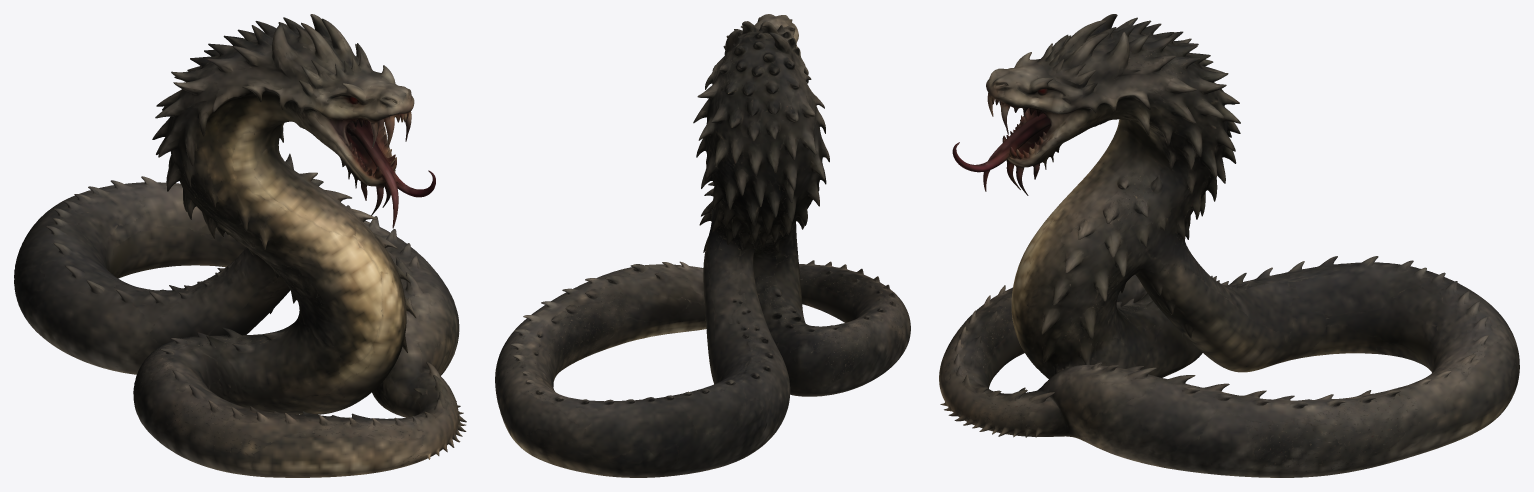
Rendered from giant_snake.glb.
3 renders of one model, left to right at view 1: azimuth 30°, elevation 25°; view 2: azimuth 150°, elevation 25°; view 3: azimuth 270°, elevation 25°, orthographic. The views are drawn at different scales.
Visible parts, largest first — view 1: material; view 2: material; view 3: material.
Part boxes in pixels (x1,y1,x2,y2): material: (14, 14, 466, 477); material: (495, 14, 910, 477); material: (939, 14, 1519, 477).
Bounding box in the file's own units: 0.6617 × 0.7072 × 0.9961.
1 material, 1 textured.
